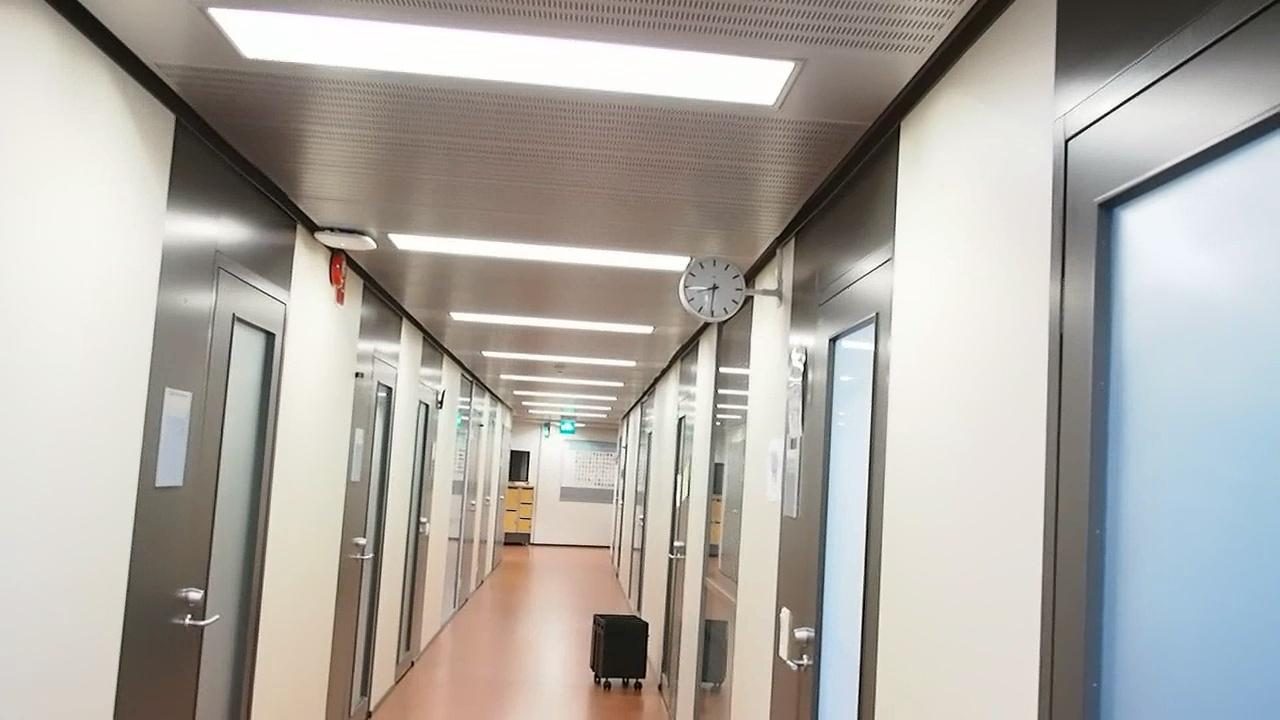clock: (681, 257, 749, 319)
